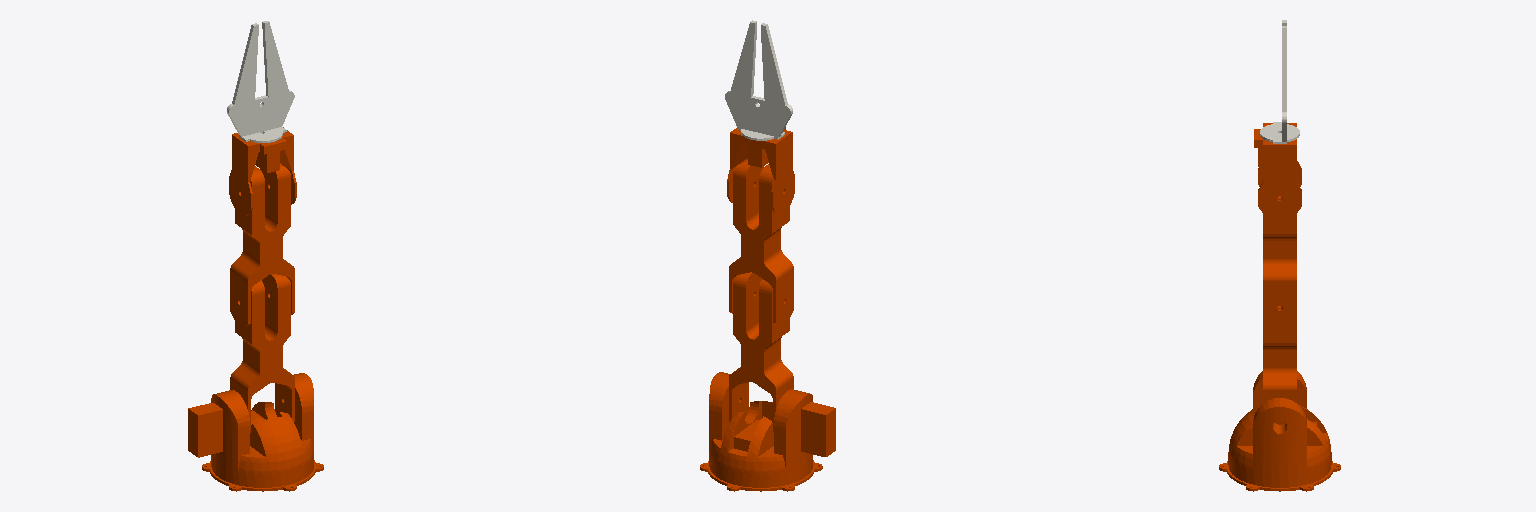
robot.urdf — braccio_arm:
<?xml version="1.0" ?>
<!-- =================================================================================== -->
<!-- |    This document was autogenerated by xacro from braccio.xacro                  | -->
<!-- |    EDITING THIS FILE BY HAND IS NOT RECOMMENDED                                 | -->
<!-- =================================================================================== -->
<robot name="braccio_arm" xmlns:xacro="http://ros.org/wiki/xacro">
  <!-- links -->
  <link name="braccio_base">
    <visual>
      <origin rpy="0 0 0" xyz="0 0 0"/>
      <geometry>
        <mesh filename="package://braccio_support/meshes/visual/base_plate.stl"/>
      </geometry>
      <material name="">
        <color rgba="0.811764705882 0.309803921569 0.0 1.0"/>
      </material>
    </visual>
    <collision>
      <origin rpy="0 0 0" xyz="0 0 0"/>
      <geometry>
        <mesh filename="package://braccio_support/meshes/collision/base_plate.stl"/>
      </geometry>
    </collision>
  </link>
  <link name="braccio_link_1">
    <visual>
      <origin rpy="0 0 0" xyz="0 0 -7.21"/>
      <geometry>
        <mesh filename="package://braccio_support/meshes/visual/base_m1.stl"/>
      </geometry>
      <material name="">
        <color rgba="0.811764705882 0.309803921569 0.0 1.0"/>
      </material>
    </visual>
    <collision>
      <origin rpy="0 0 0" xyz="0 0 -7.21"/>
      <geometry>
        <mesh filename="package://braccio_support/meshes/collision/base_m1.stl"/>
      </geometry>
    </collision>
  </link>
  <link name="braccio_link_2">
    <visual>
      <origin rpy="0 0 -1.570796327" xyz="0 0 2.45"/>
      <geometry>
        <mesh filename="package://braccio_support/meshes/visual/arm_m23.stl"/>
      </geometry>
      <material name="">
        <color rgba="0.811764705882 0.309803921569 0.0 1.0"/>
      </material>
    </visual>
    <collision>
      <origin rpy="0 0 -1.570796327" xyz="0 0 2.45"/>
      <geometry>
        <mesh filename="package://braccio_support/meshes/collision/arm_m23.stl"/>
      </geometry>
    </collision>
  </link>
  <link name="braccio_link_3">
    <visual>
      <origin rpy="0 0 -1.570796327" xyz="0 0 2.45"/>
      <geometry>
        <mesh filename="package://braccio_support/meshes/visual/arm_m23.stl"/>
      </geometry>
      <material name="">
        <color rgba="0.811764705882 0.309803921569 0.0 1.0"/>
      </material>
    </visual>
    <collision>
      <origin rpy="0 0 -1.570796327" xyz="0 0 2.45"/>
      <geometry>
        <mesh filename="package://braccio_support/meshes/collision/arm_m23.stl"/>
      </geometry>
    </collision>
  </link>
  <link name="braccio_link_4">
    <visual>
      <origin rpy="0 1.570796327 0" xyz="2 -0.475 0"/>
      <geometry>
        <mesh filename="package://braccio_support/meshes/visual/hand.stl"/>
      </geometry>
      <material name="">
        <color rgba="0.811764705882 0.309803921569 0.0 1.0"/>
      </material>
    </visual>
    <collision>
      <origin rpy="0 1.570796327 0" xyz="2 -0.475 0"/>
      <geometry>
        <mesh filename="package://braccio_support/meshes/collision/hand.stl"/>
      </geometry>
    </collision>
  </link>
  <link name="braccio_link_5">
    <visual>
      <origin rpy="0 0 0" xyz="0 0 0"/>
      <geometry>
        <mesh filename="package://braccio_support/meshes/visual/gripper.stl"/>
      </geometry>
      <material name="">
        <color rgba="0.86 0.85 0.81 1.0"/>
      </material>
    </visual>
    <collision>
      <origin rpy="0 0 0" xyz="0 0 0"/>
      <geometry>
        <mesh filename="package://braccio_support/meshes/collision/gripper.stl"/>
      </geometry>
    </collision>
  </link>
  <link name="braccio_ee"/>
  <!-- joints -->
  <!-- ROS base_link to Braccio World Coordinates transform -->
  <link name="base_link"/>
  <joint name="braccio_base_link-base" type="fixed">
    <origin rpy="0 0 0" xyz="0 0 0"/>
    <parent link="base_link"/>
    <child link="braccio_base"/>
  </joint>
  <joint name="braccio_joint_1" type="revolute">
    <origin rpy="0 0 0" xyz="0 0 7.22"/>
    <parent link="braccio_base"/>
    <child link="braccio_link_1"/>
    <axis xyz="0 0 1"/>
    <limit effort="0" lower="-3.14" upper="3.14" velocity="3.67"/>
  </joint>
  <joint name="braccio_joint_2" type="revolute">
    <origin rpy="0 -1.570796327 0" xyz="0 0 0"/>
    <parent link="braccio_link_1"/>
    <child link="braccio_link_2"/>
    <axis xyz="0 0 1"/>
    <limit effort="0" lower="-3.14" upper="3.14" velocity="3.67"/>
  </joint>
  <joint name="braccio_joint_3" type="revolute">
    <origin rpy="0 0 0" xyz="12.5 0 0"/>
    <parent link="braccio_link_2"/>
    <child link="braccio_link_3"/>
    <axis xyz="0 0 1"/>
    <limit effort="0" lower="-3.14" upper="3.14" velocity="3.67"/>
  </joint>
  <joint name="braccio_joint_4" type="revolute">
    <origin rpy="0 0 0" xyz="12.5 0 0"/>
    <parent link="braccio_link_3"/>
    <child link="braccio_link_4"/>
    <axis xyz="0 0 1"/>
    <limit effort="0" lower="-3.14" upper="3.14" velocity="3.67"/>
  </joint>
  <joint name="braccio_joint_5" type="revolute">
    <origin rpy="0 1.570796327 0" xyz="6.1 0 0"/>
    <parent link="braccio_link_4"/>
    <child link="braccio_link_5"/>
    <axis xyz="0 0 1"/>
    <limit effort="0" lower="-3.14" upper="3.14" velocity="3.67"/>
  </joint>
  <joint name="braccio_joint_ee" type="fixed">
    <origin rpy="0 0 0" xyz="0 0.45 12.6"/>
    <parent link="braccio_link_5"/>
    <child link="braccio_ee"/>
  </joint>
</robot>

--- Facts derived from the render (not from the file) ---
3 views of the same robot in one strip: view 1: azimuth 30°, elevation 25°; view 2: azimuth 150°, elevation 25°; view 3: azimuth 270°, elevation 25° (orthographic).
Model braccio_arm with 8 links and 7 joints (5 revolute, 2 fixed), rooted at base_link, posed every joint at zero.
Links seen in each view (by area): view 1: braccio_link_1, braccio_link_3, braccio_link_2, braccio_link_5, braccio_link_4, braccio_base; view 2: braccio_link_1, braccio_link_3, braccio_link_2, braccio_link_5, braccio_link_4, braccio_base; view 3: braccio_link_1, braccio_link_3, braccio_link_4, braccio_link_2, braccio_link_5, braccio_base.
Link boxes in pixels (box(x1,y1,x2,y2)): braccio_link_1: box(188, 373, 313, 487); braccio_link_3: box(230, 163, 294, 325); braccio_link_2: box(230, 274, 294, 432); braccio_link_5: box(227, 21, 294, 142); braccio_link_4: box(229, 127, 296, 215); braccio_base: box(202, 460, 323, 491); braccio_link_1: box(709, 372, 835, 487); braccio_link_3: box(729, 158, 793, 324); braccio_link_2: box(729, 272, 793, 432); braccio_link_5: box(725, 20, 792, 140); braccio_link_4: box(727, 127, 794, 213); braccio_base: box(700, 460, 822, 491); braccio_link_1: box(1228, 371, 1331, 487); braccio_link_3: box(1263, 196, 1296, 329); braccio_link_4: box(1254, 123, 1301, 219); braccio_link_2: box(1263, 306, 1296, 424); braccio_link_5: box(1260, 20, 1299, 143); braccio_base: box(1219, 461, 1340, 491).
Size in the robot's own frame: 13.94 by 12.67 by 50.92 metres.
Meshes: 5 distinct files referenced, 6 mesh visuals loaded (5 binary STL).